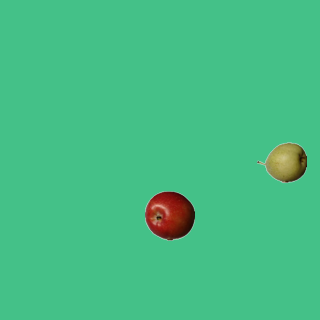Apple Braeburn: (144, 190, 194, 240)
Pear: (256, 137, 306, 187)
